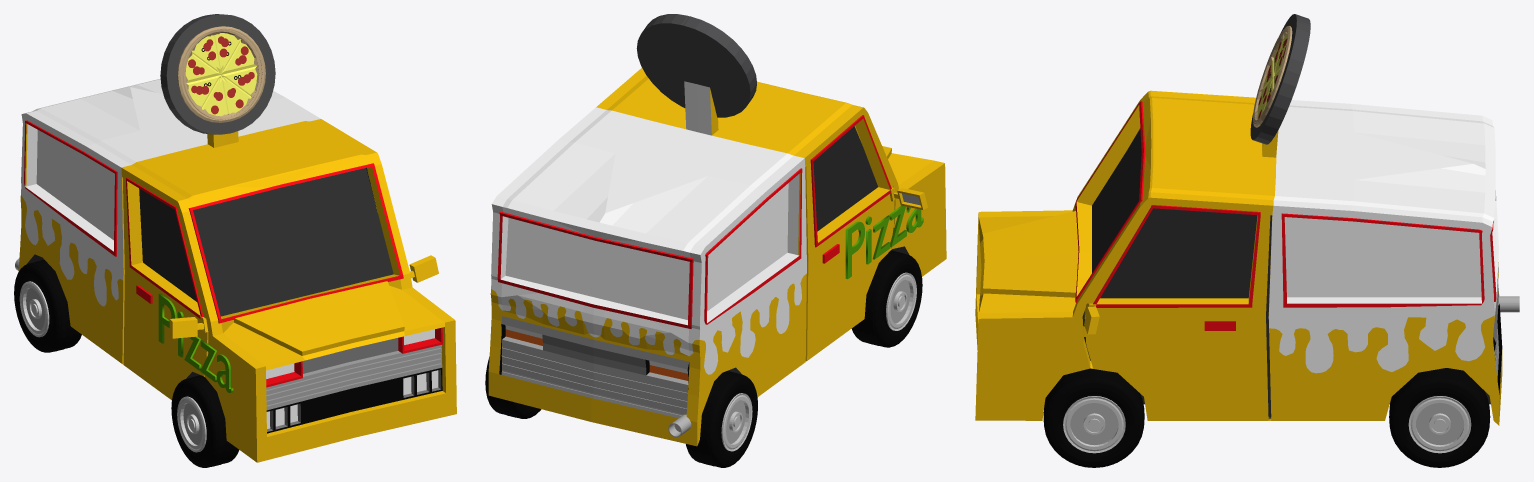
File: CR-CAR-21A.fbx
3 views of the same model, side by side, from view 1: azimuth 30°, elevation 25°; view 2: azimuth 150°, elevation 25°; view 3: azimuth 270°, elevation 25° (orthographic). The views are drawn at different scales.
Visible parts, largest first — view 1: BODY, WHEEL.001, WHEEL.004, Text; view 2: BODY, WHEEL.004, WHEEL.001, Text, WHEEL.002; view 3: BODY, WHEEL.003, WHEEL.002.
Boxes of the visible parts, x1=… form: BODY: x1=18, y1=14, x2=456, y2=462; WHEEL.001: x1=171, y1=375, x2=238, y2=467; WHEEL.004: x1=14, y1=259, x2=81, y2=352; Text: x1=158, y1=293, x2=233, y2=392; BODY: x1=488, y1=14, x2=946, y2=446; WHEEL.004: x1=686, y1=371, x2=757, y2=467; WHEEL.001: x1=851, y1=250, x2=922, y2=347; Text: x1=845, y1=205, x2=923, y2=279; WHEEL.002: x1=485, y1=356, x2=541, y2=418; BODY: x1=975, y1=14, x2=1502, y2=425; WHEEL.003: x1=1043, y1=368, x2=1144, y2=467; WHEEL.002: x1=1389, y1=368, x2=1490, y2=467.
Size of the model in its own units: 131 by 167 by 211.
